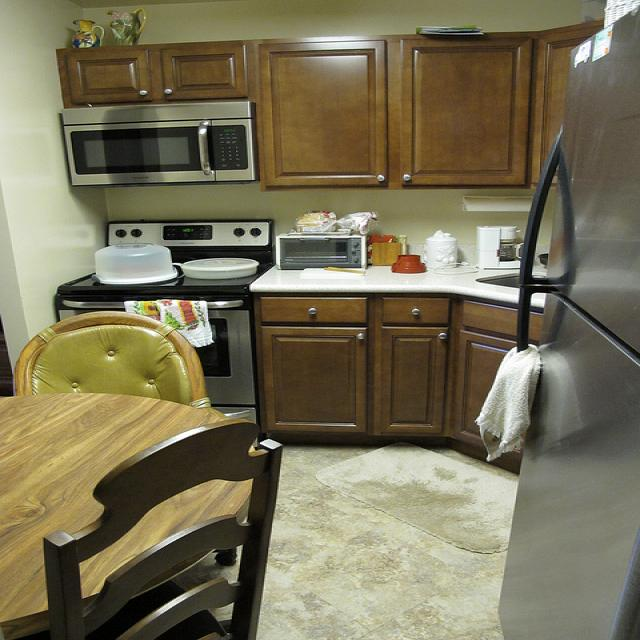chair: (42, 420, 273, 630), (12, 308, 213, 406)
dining table: (2, 392, 273, 622)
